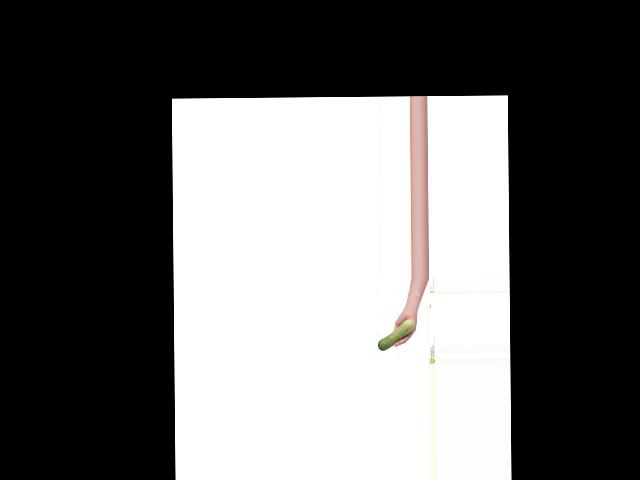cucumber: (378, 318, 415, 350)
